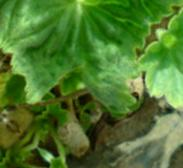Tomato leaf mosaic virus: (0, 0, 183, 160), (121, 28, 183, 120)
